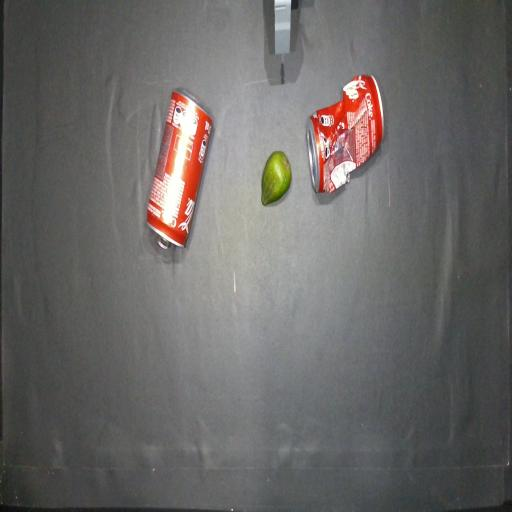higo: (261, 151, 291, 205)
lata: (147, 91, 212, 247)
lata_defectuoso: (306, 75, 383, 192)
